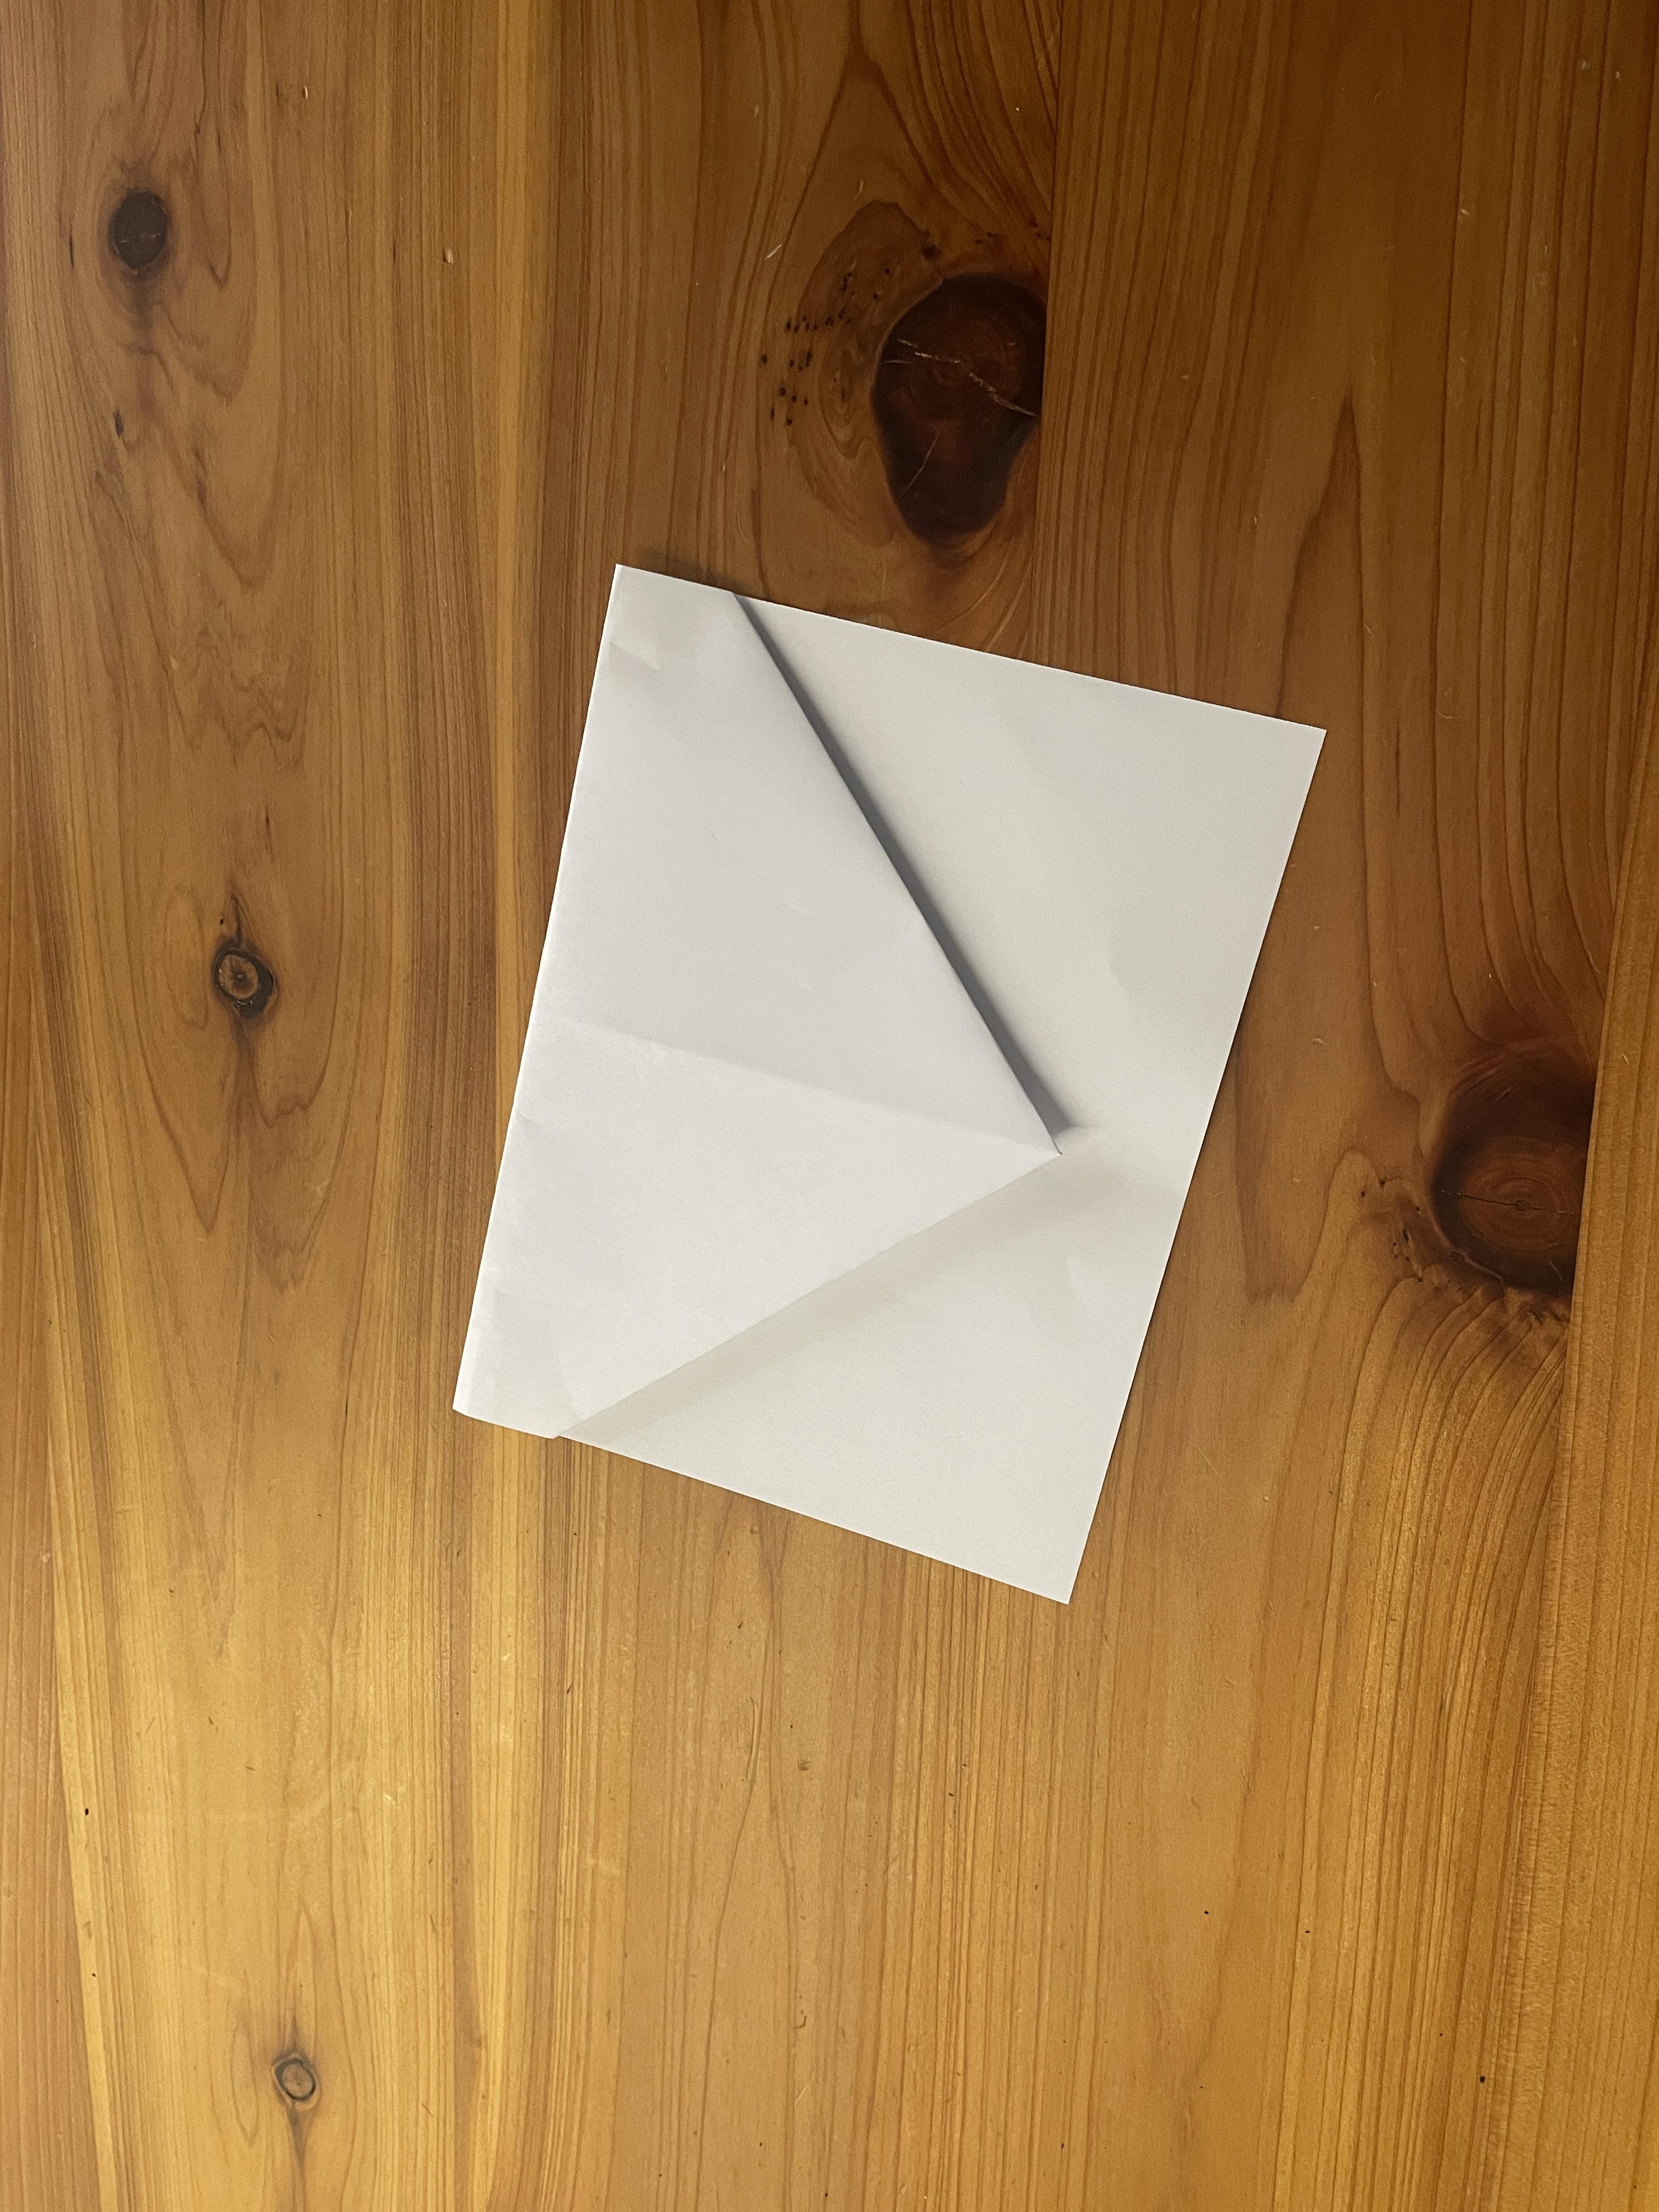shape_1: (396, 428, 1399, 1771)
